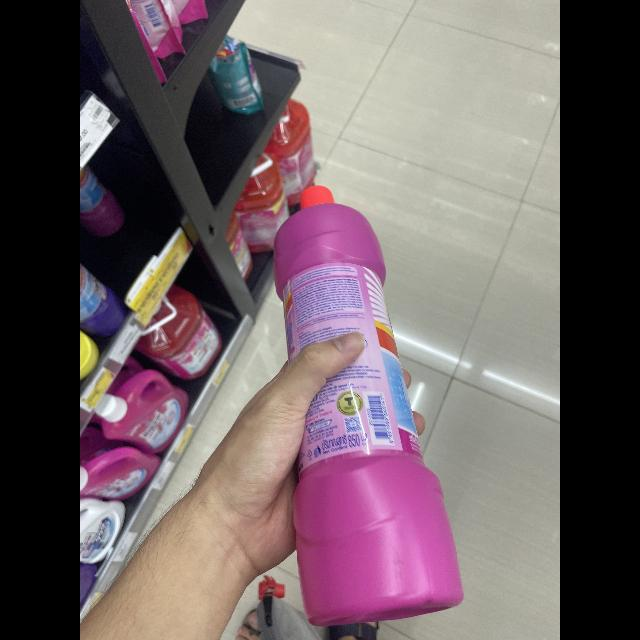chemical_plastic_bottle: (268, 182, 467, 634)
